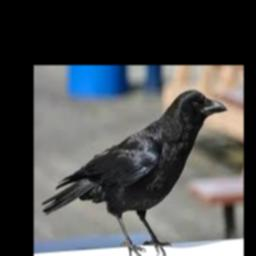Crow: (43, 88, 228, 256)
